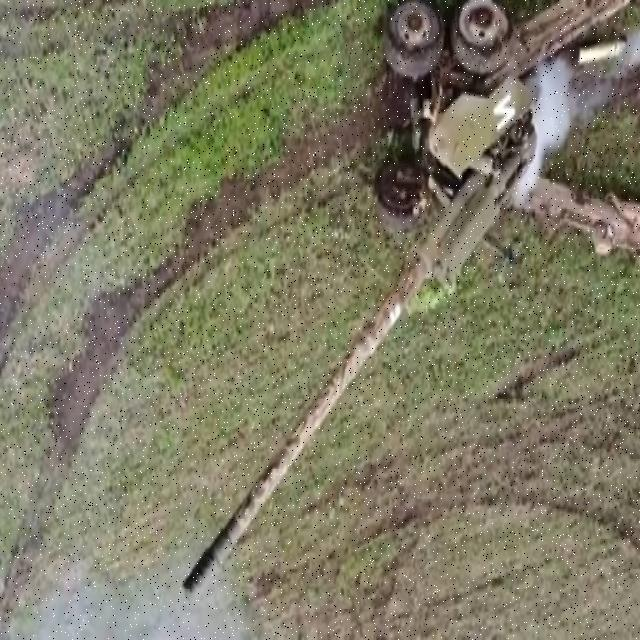ART: (181, 1, 639, 606)
